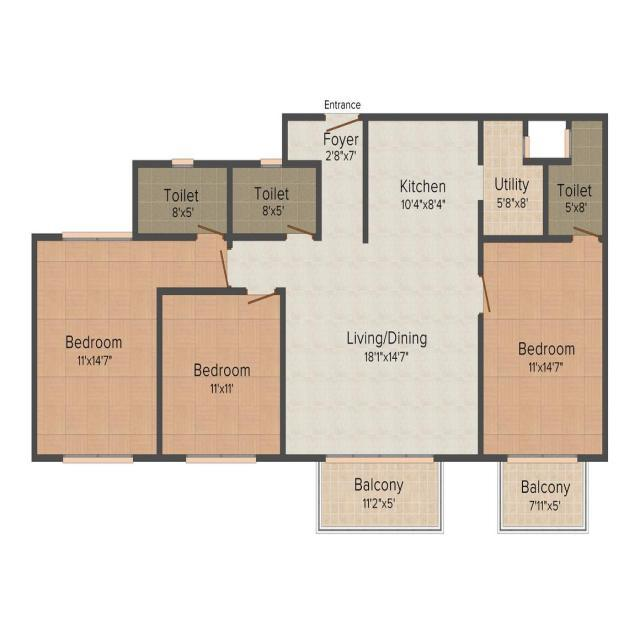Balcony-Sitout: (316, 455, 447, 535), (497, 458, 591, 534)
Bedroom: (29, 231, 160, 462), (157, 291, 288, 464)
Bedroom with Toilet: (479, 114, 606, 455)
Enterance-Foyer: (321, 97, 366, 206)
Kitchen: (363, 114, 485, 242)
Living: (284, 243, 482, 462)
Toilet: (543, 115, 607, 238), (135, 160, 227, 238), (227, 167, 319, 239)
Utility: (478, 114, 546, 241)
